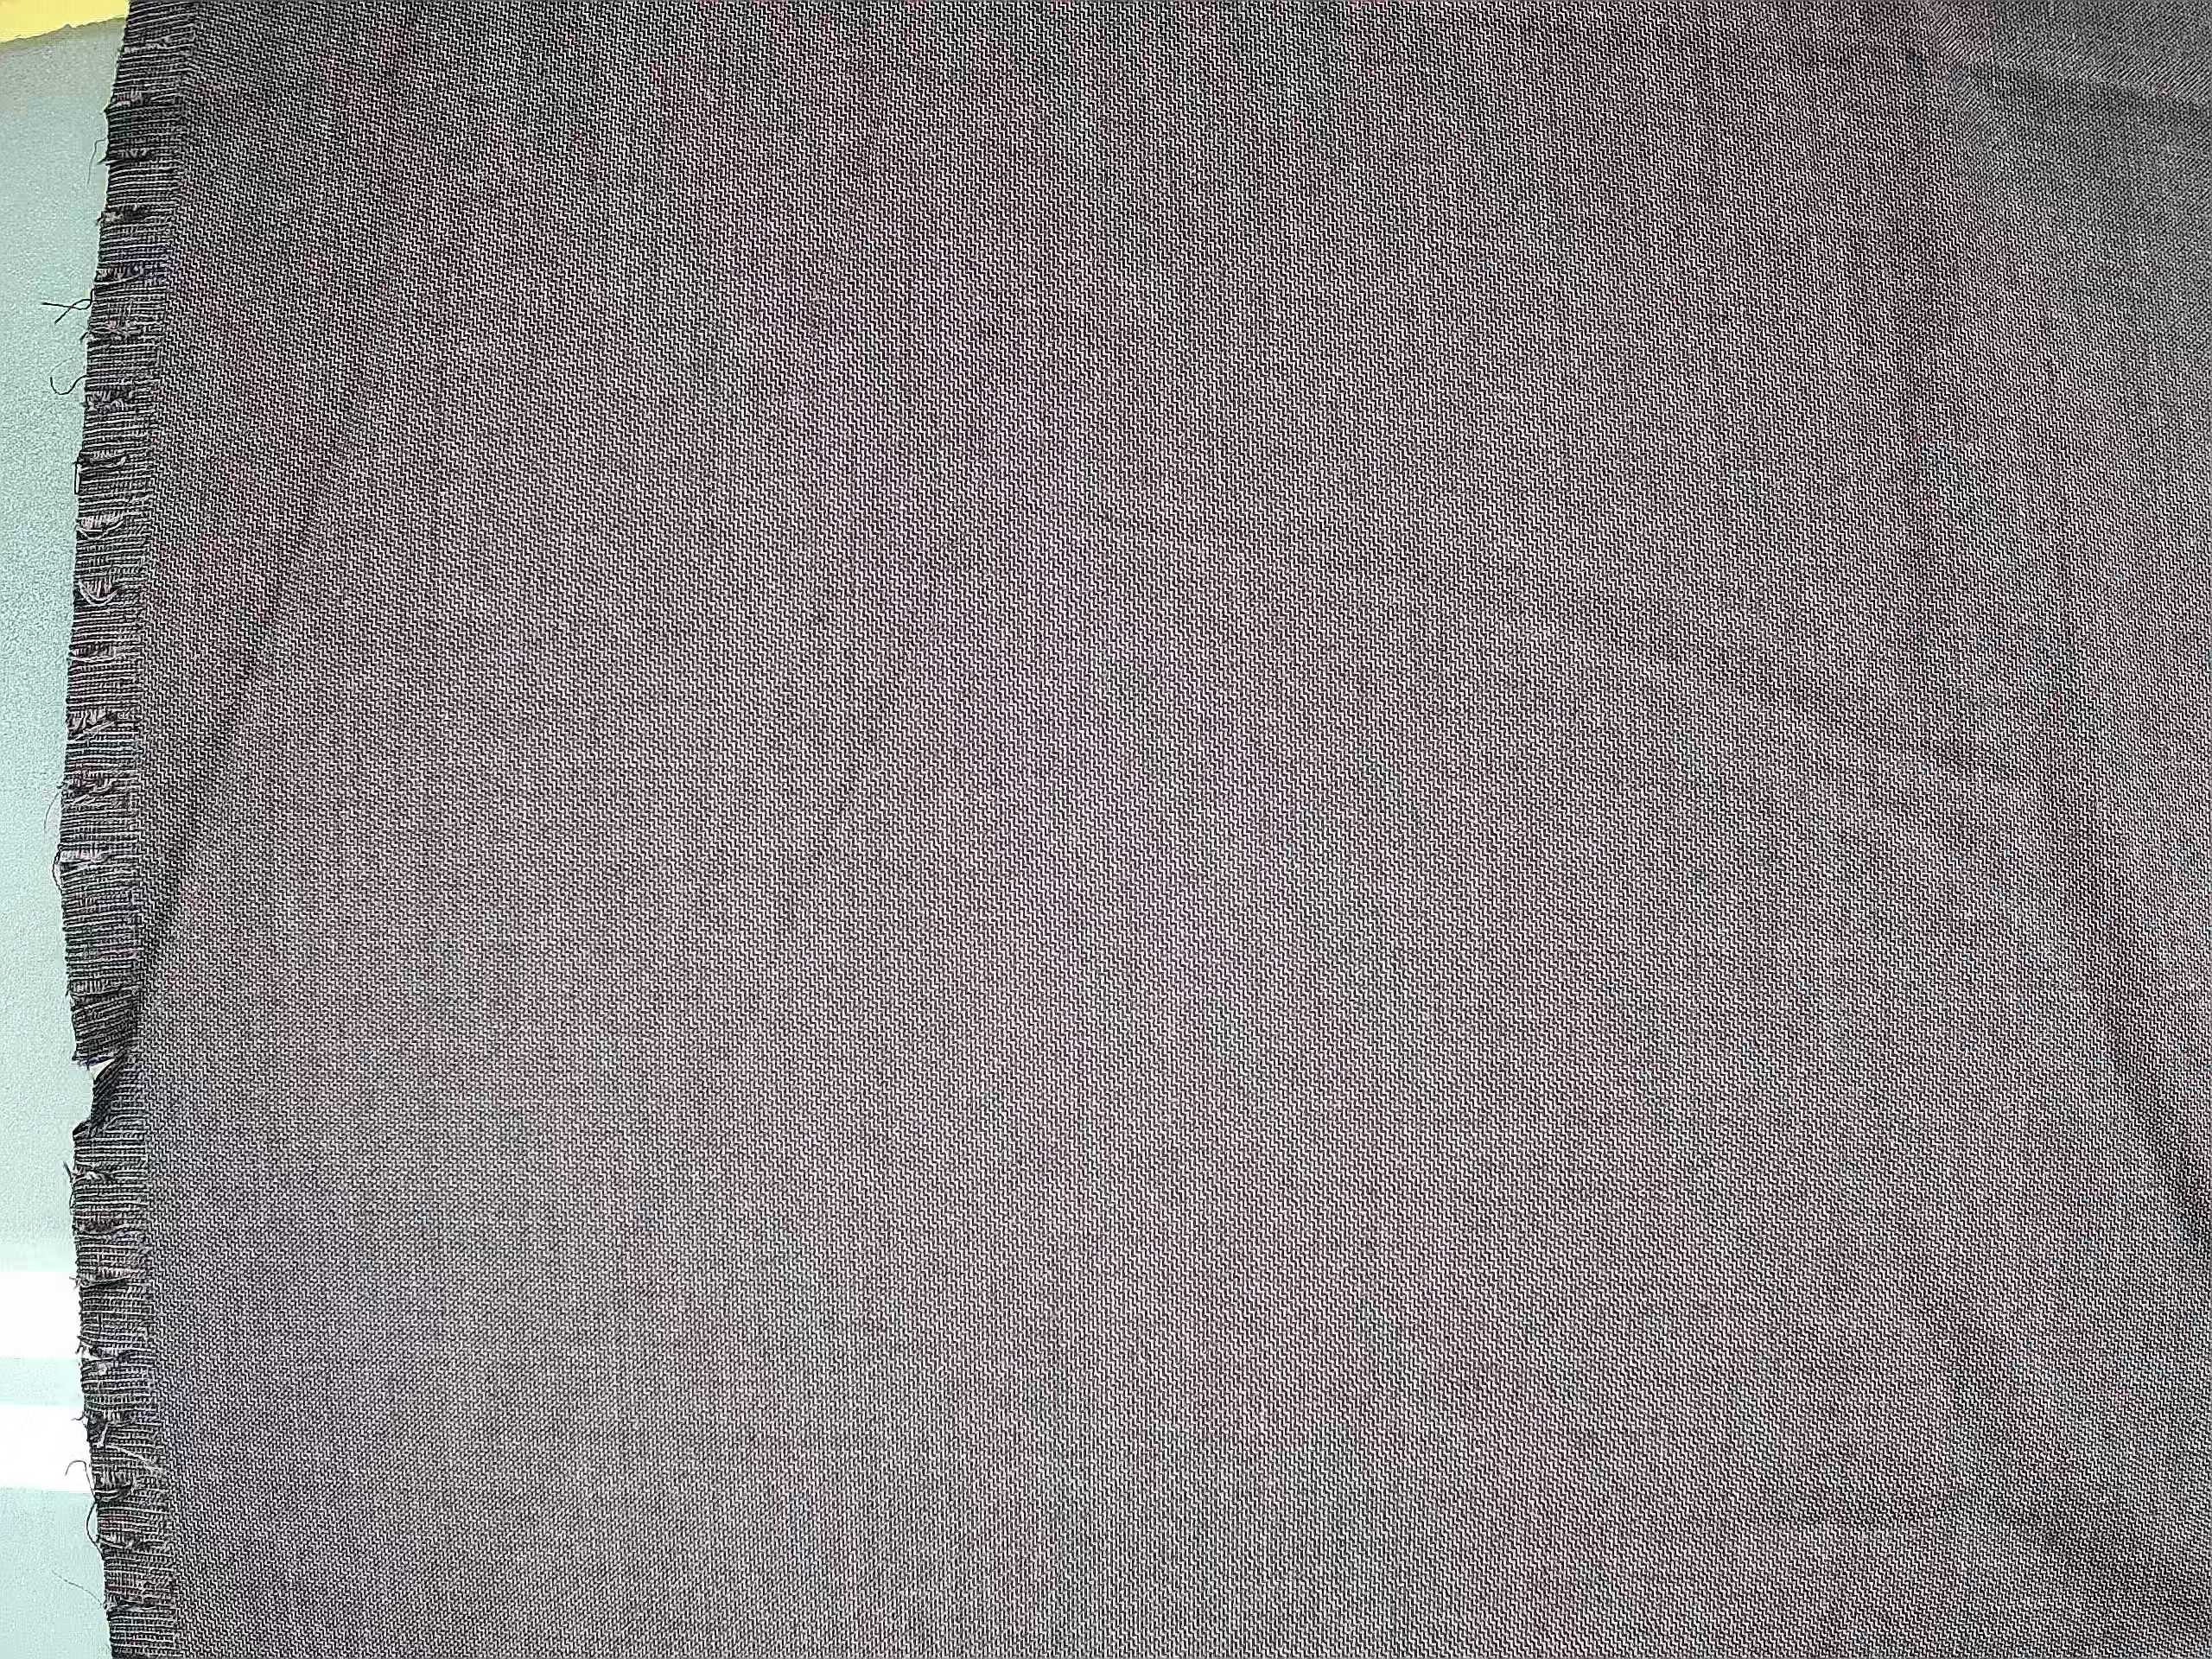others: (51, 59, 214, 1621)
